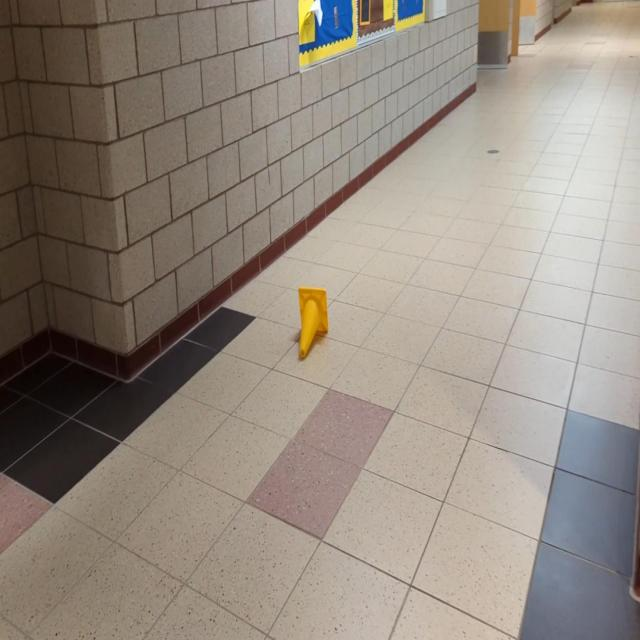frc_cone: (299, 287, 328, 360)
